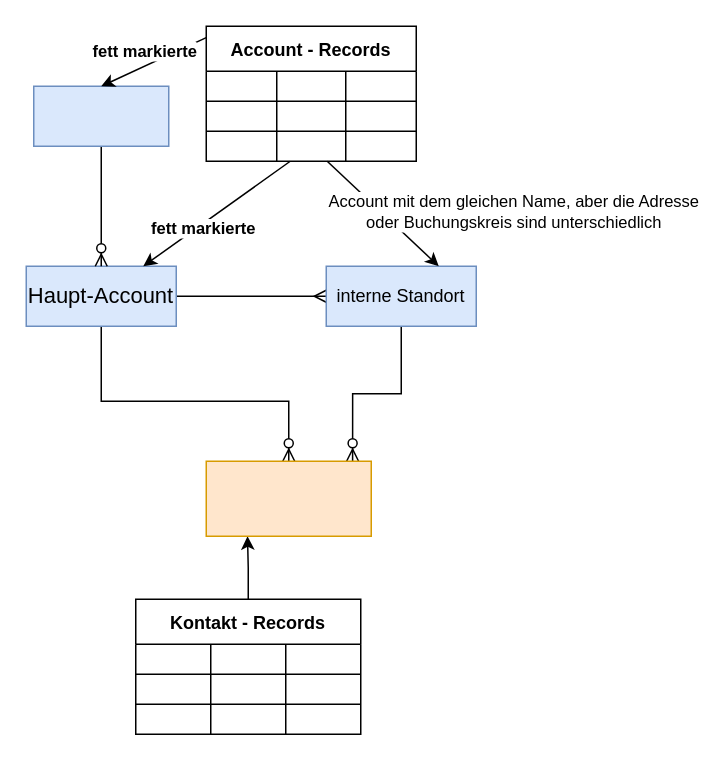
This 726x761 diagram has some shape labels left out. The shapes that lost their labels are listed below. From the top down, each one's centre as x and y in pixels, then its label:
At (100,115): "Parent Account".
At (288,498): "Kontakte".
